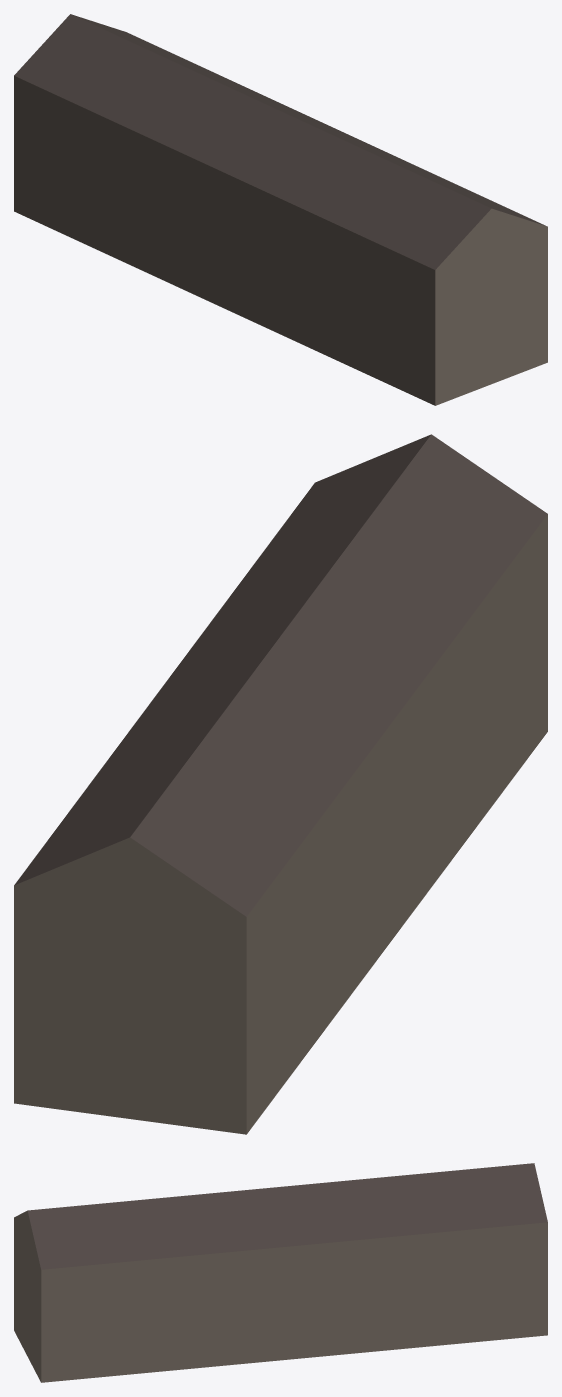
3 renders of one model, top to bottom at view 1: azimuth 30°, elevation 25°; view 2: azimuth 150°, elevation 25°; view 3: azimuth 270°, elevation 25°, orthographic. The views are drawn at different scales.
Parts seen in each view (by area): view 1: HP-w1376988698; view 2: HP-w1376988698; view 3: HP-w1376988698.
Part boxes in pixels (x1,y1,x2,y2): HP-w1376988698: (14,14,547,405); HP-w1376988698: (14,434,547,1134); HP-w1376988698: (14,1163,547,1382).
Size of the model in its own units: 11.36 by 7.76 by 25.7.
